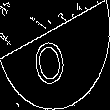O_N: (34, 23, 76, 87)
